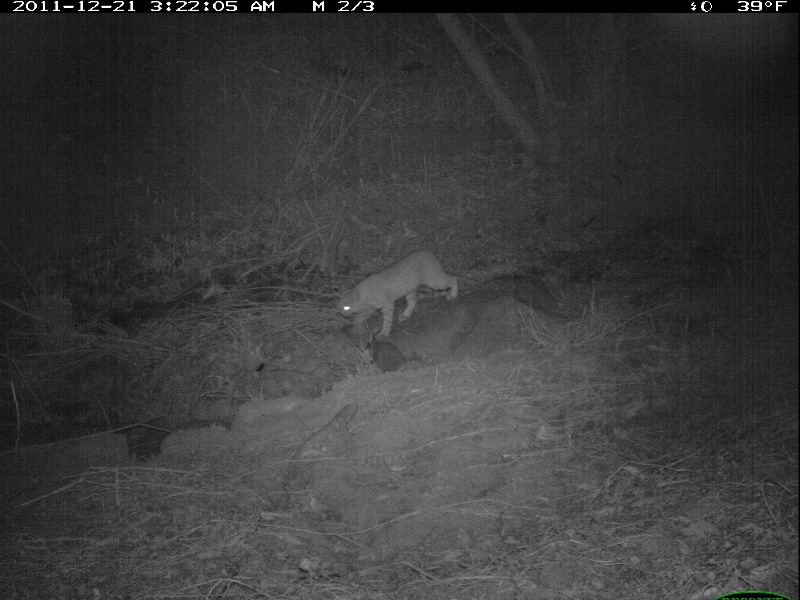cat: (336, 246, 461, 341)
